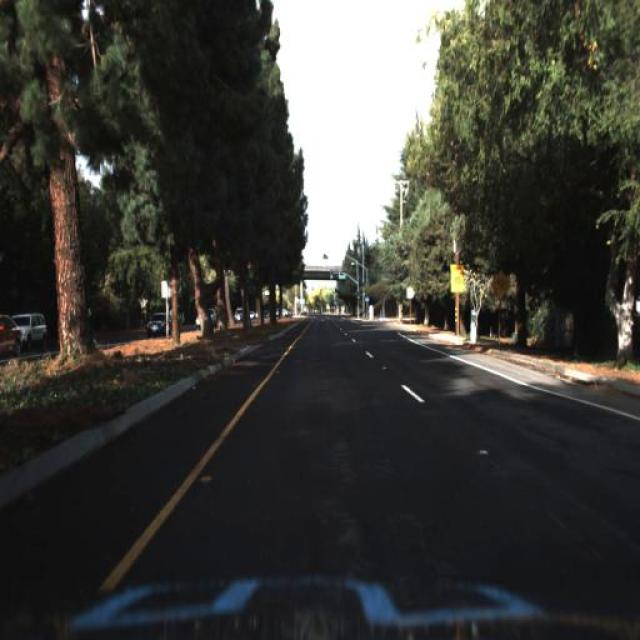car: (1, 310, 48, 354), (142, 304, 173, 341), (146, 312, 172, 338)
